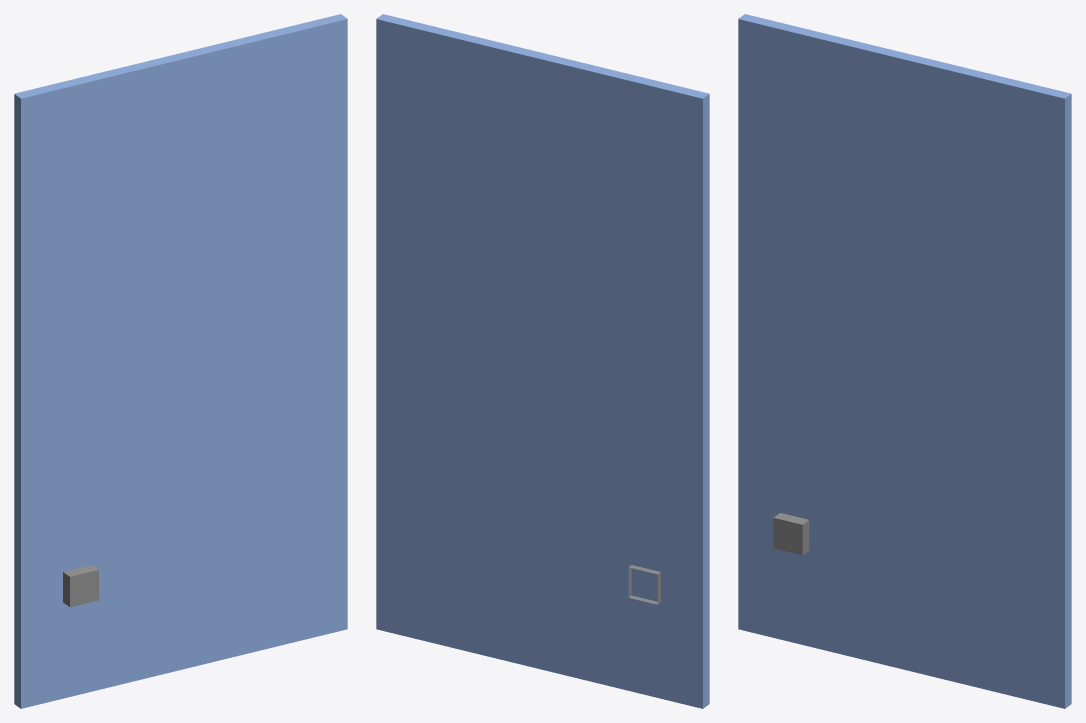
File: Armario02_Puerta01.fbx
3 renders of one model, left to right at view 1: azimuth 30°, elevation 25°; view 2: azimuth 150°, elevation 25°; view 3: azimuth 330°, elevation 25°, orthographic.
Parts seen in each view (by area): view 1: Armario02_Puerta01; view 2: Armario02_Puerta01; view 3: Armario02_Puerta01.
Part boxes in pixels (x1,y1,x2,y2): Armario02_Puerta01: (14, 14, 347, 708); Armario02_Puerta01: (376, 14, 709, 708); Armario02_Puerta01: (738, 14, 1071, 708).
Size of the model in its own units: 24.95 by 44.51 by 2.24.
